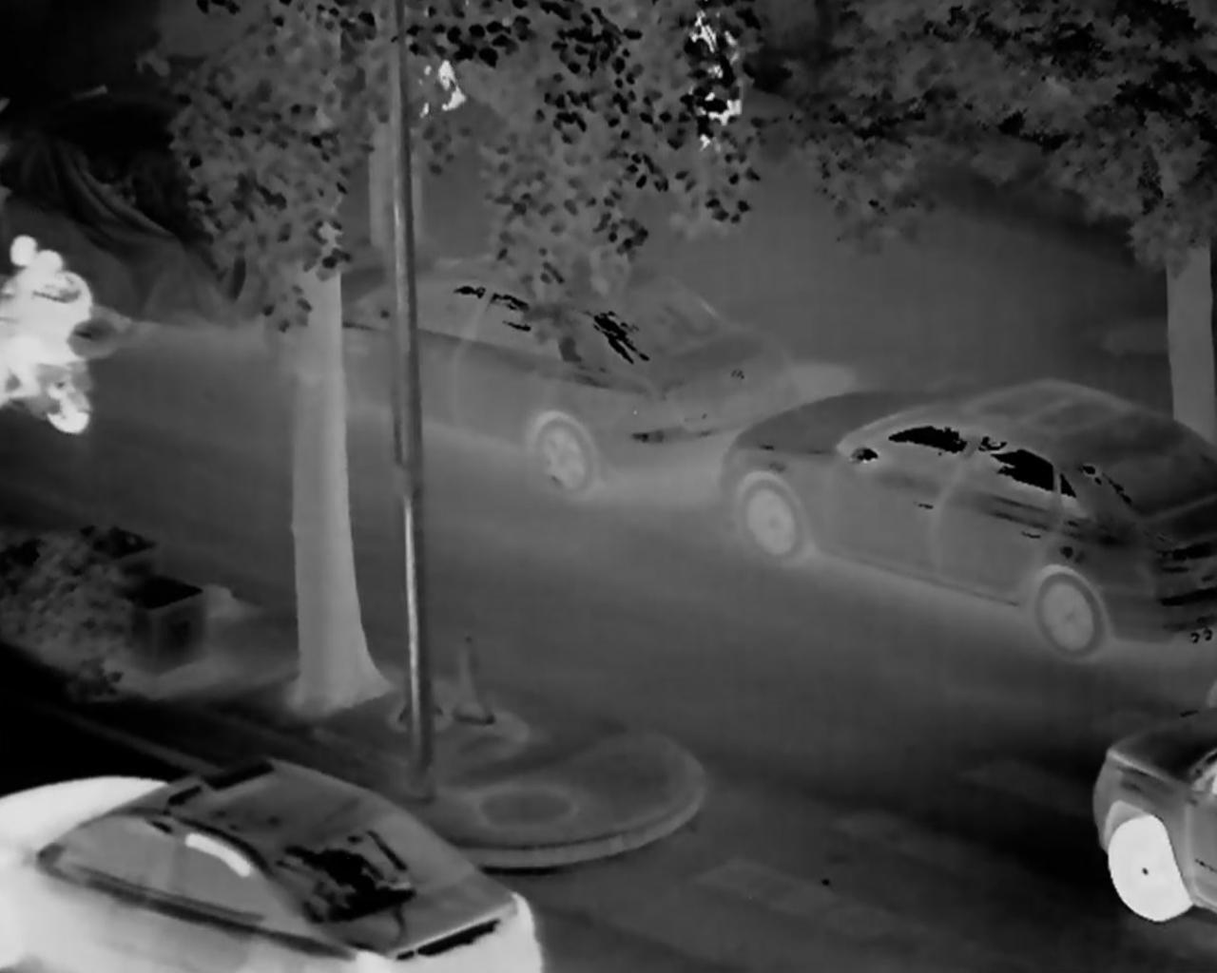person: (29, 250, 98, 434)
